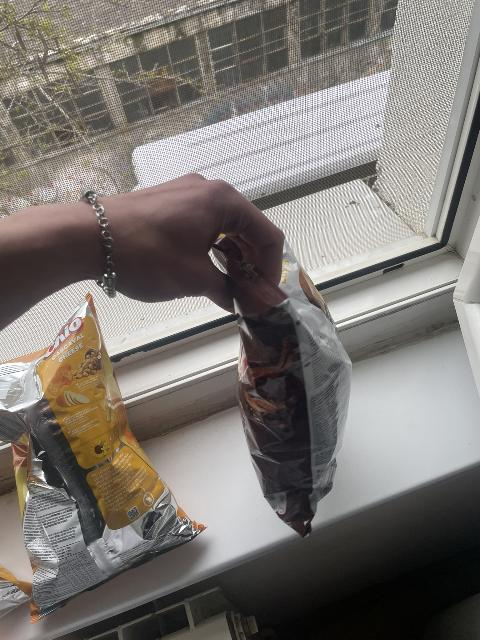Chio Cascaval 125g: (3, 303, 218, 616)
Lays Beef Grilled Ribs 125g: (210, 219, 351, 540)
